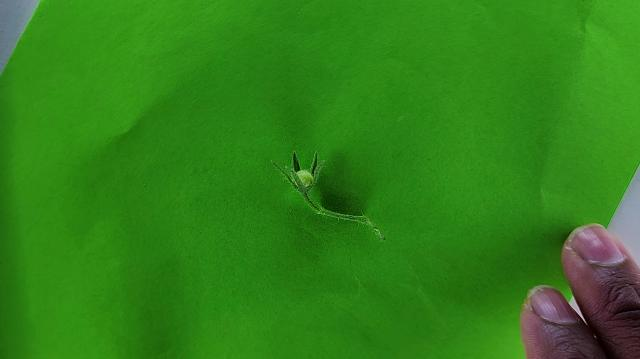Fruit Bud: (286, 150, 323, 191), (274, 154, 300, 192)
